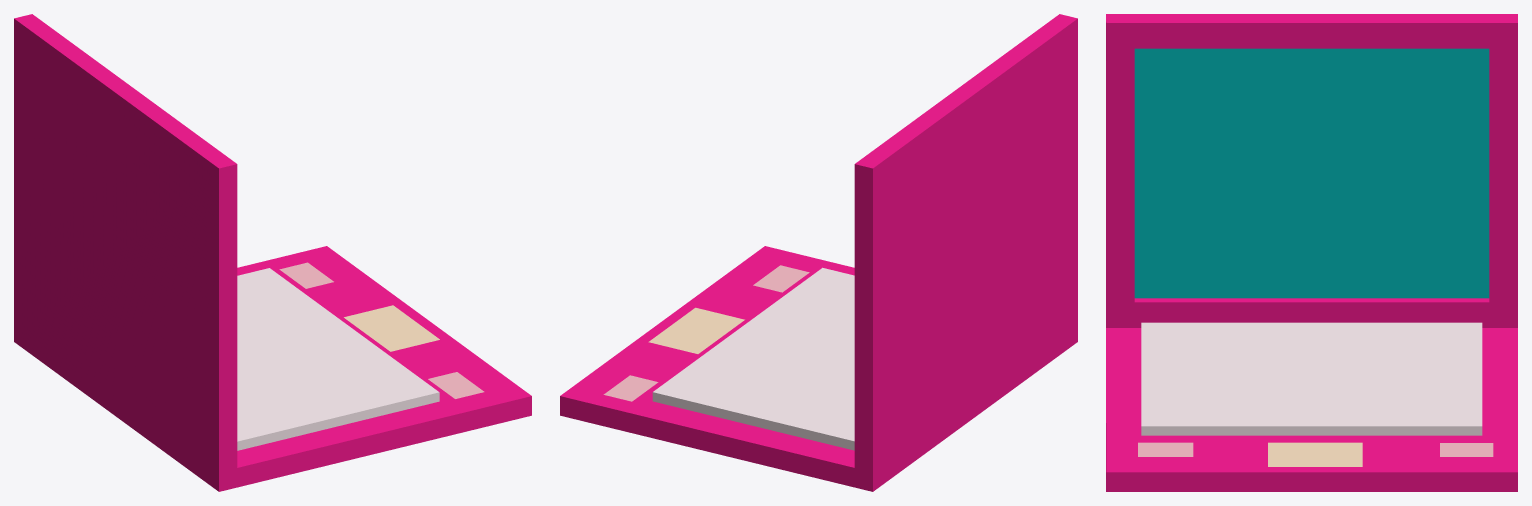
The picture shows the model from 3 angles, left to right: view 1: azimuth 30°, elevation 25°; view 2: azimuth 150°, elevation 25°; view 3: azimuth 270°, elevation 25°; orthographic projection.
Visible parts, largest first — view 1: mesh1-geometry-0, mesh1-geometry-4, mesh1-geometry-5, mesh1-geometry-3; view 2: mesh1-geometry-0, mesh1-geometry-4, mesh1-geometry-5, mesh1-geometry-3; view 3: mesh1-geometry-2, mesh1-geometry-0, mesh1-geometry-4, mesh1-geometry-5, mesh1-geometry-3.
Boxes of the visible parts, box(x1,y1,x2,y2) form: mesh1-geometry-0: box(14, 14, 531, 491); mesh1-geometry-4: box(237, 268, 439, 450); mesh1-geometry-5: box(344, 305, 439, 351); mesh1-geometry-3: box(279, 262, 484, 398); mesh1-geometry-0: box(560, 14, 1077, 491); mesh1-geometry-4: box(652, 267, 854, 450); mesh1-geometry-5: box(648, 307, 744, 353); mesh1-geometry-3: box(603, 265, 809, 401); mesh1-geometry-2: box(1134, 48, 1489, 298); mesh1-geometry-0: box(1106, 14, 1517, 491); mesh1-geometry-4: box(1141, 322, 1482, 435); mesh1-geometry-5: box(1268, 442, 1362, 466); mesh1-geometry-3: box(1138, 442, 1493, 456).
Size of the model in its own units: 0.5536 by 0.5467 by 0.6282.
